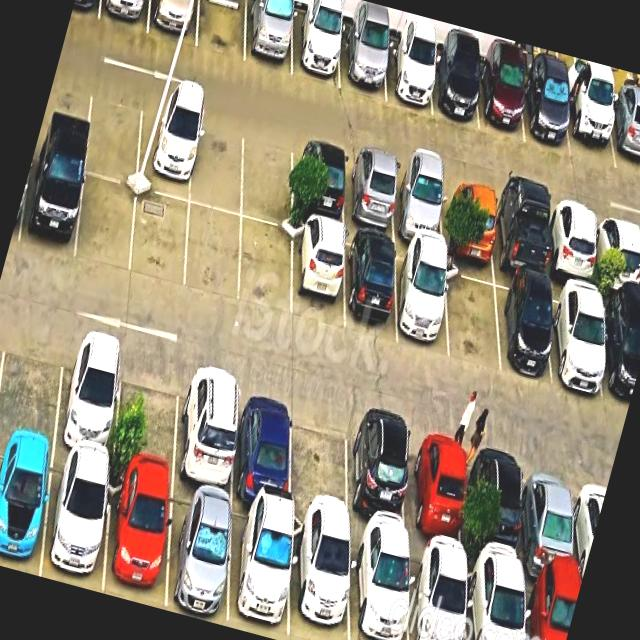car: (41, 450, 110, 590), (54, 328, 123, 464), (165, 483, 231, 624), (104, 467, 170, 606), (227, 500, 291, 640), (174, 361, 239, 497), (232, 377, 293, 510), (349, 408, 409, 543), (289, 515, 349, 640), (409, 422, 463, 559), (0, 437, 53, 576), (525, 451, 577, 585), (18, 154, 84, 259), (474, 438, 524, 572), (136, 95, 197, 201), (549, 281, 605, 396), (494, 272, 551, 379), (351, 533, 408, 640), (396, 245, 448, 357), (344, 231, 397, 340), (292, 218, 344, 329), (409, 545, 466, 640), (493, 187, 547, 279), (600, 293, 640, 409), (293, 137, 345, 226), (467, 560, 524, 640), (444, 175, 495, 263), (346, 149, 395, 237), (393, 161, 443, 247), (564, 84, 615, 168), (548, 200, 596, 286), (523, 70, 570, 155), (291, 9, 341, 88), (595, 211, 640, 297), (524, 573, 580, 640), (430, 50, 478, 128), (479, 59, 524, 142), (384, 37, 431, 114), (245, 0, 292, 75), (339, 26, 385, 99), (606, 94, 640, 175), (147, 0, 199, 46), (98, 0, 150, 33)
free: (114, 345, 181, 481), (0, 314, 66, 446), (291, 394, 348, 528), (75, 173, 137, 273), (445, 260, 500, 371), (84, 81, 143, 184), (130, 188, 189, 290), (184, 203, 241, 302), (189, 110, 243, 214), (241, 123, 293, 229), (238, 219, 291, 317), (196, 0, 246, 61)
